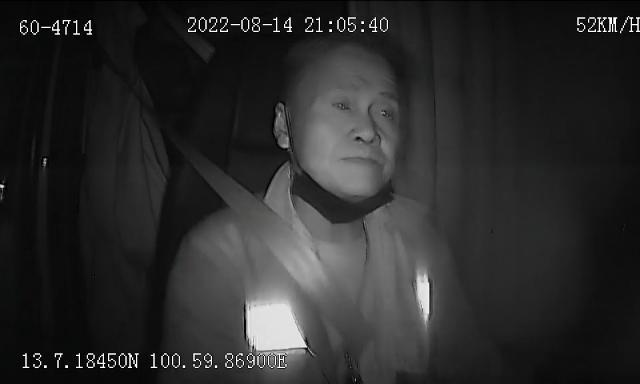SafeDriving: (371, 96, 402, 126), (326, 90, 358, 118)
Seatbelt: (182, 146, 370, 362)
